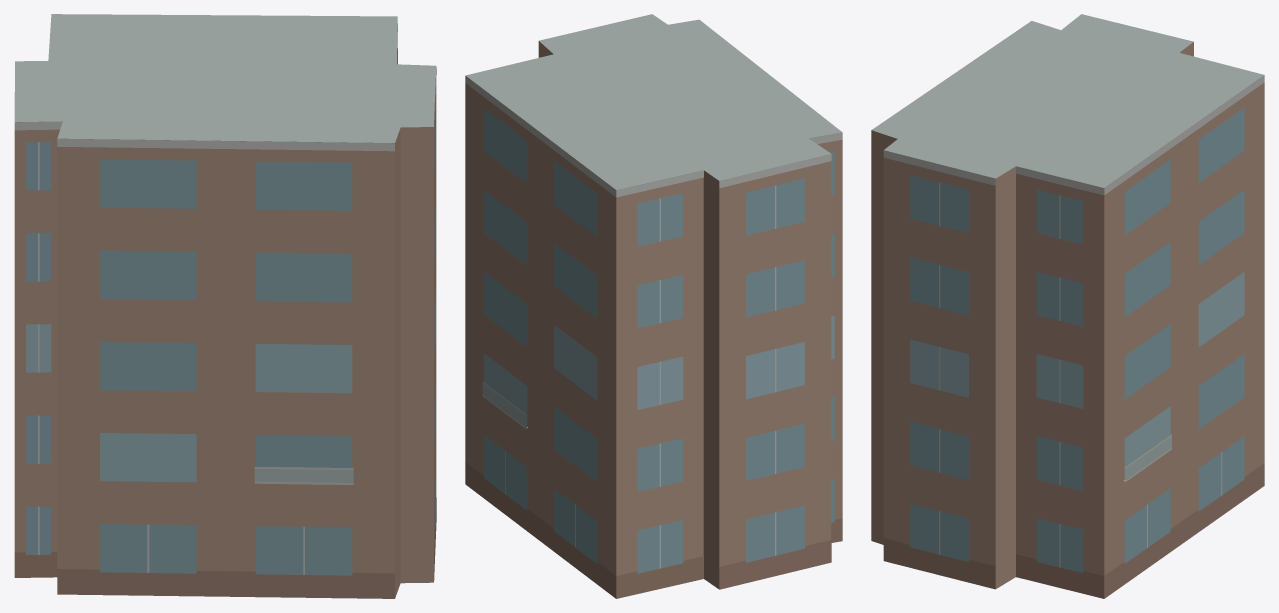
The model's file is survey-upis-32774228.glb.
3 renders of one model, left to right at view 1: azimuth 30°, elevation 25°; view 2: azimuth 150°, elevation 25°; view 3: azimuth 270°, elevation 25°, orthographic. The views are drawn at different scales.
Visible parts, largest first — view 1: survey-upis-32774228.tmp; view 2: survey-upis-32774228.tmp; view 3: survey-upis-32774228.tmp.
Part boxes in pixels (bbox=[...]): survey-upis-32774228.tmp: bbox=[14, 14, 436, 598]; survey-upis-32774228.tmp: bbox=[465, 14, 842, 598]; survey-upis-32774228.tmp: bbox=[871, 14, 1264, 598].
Bounding box in the file's own units: 12.35 × 13.58 × 11.79.
